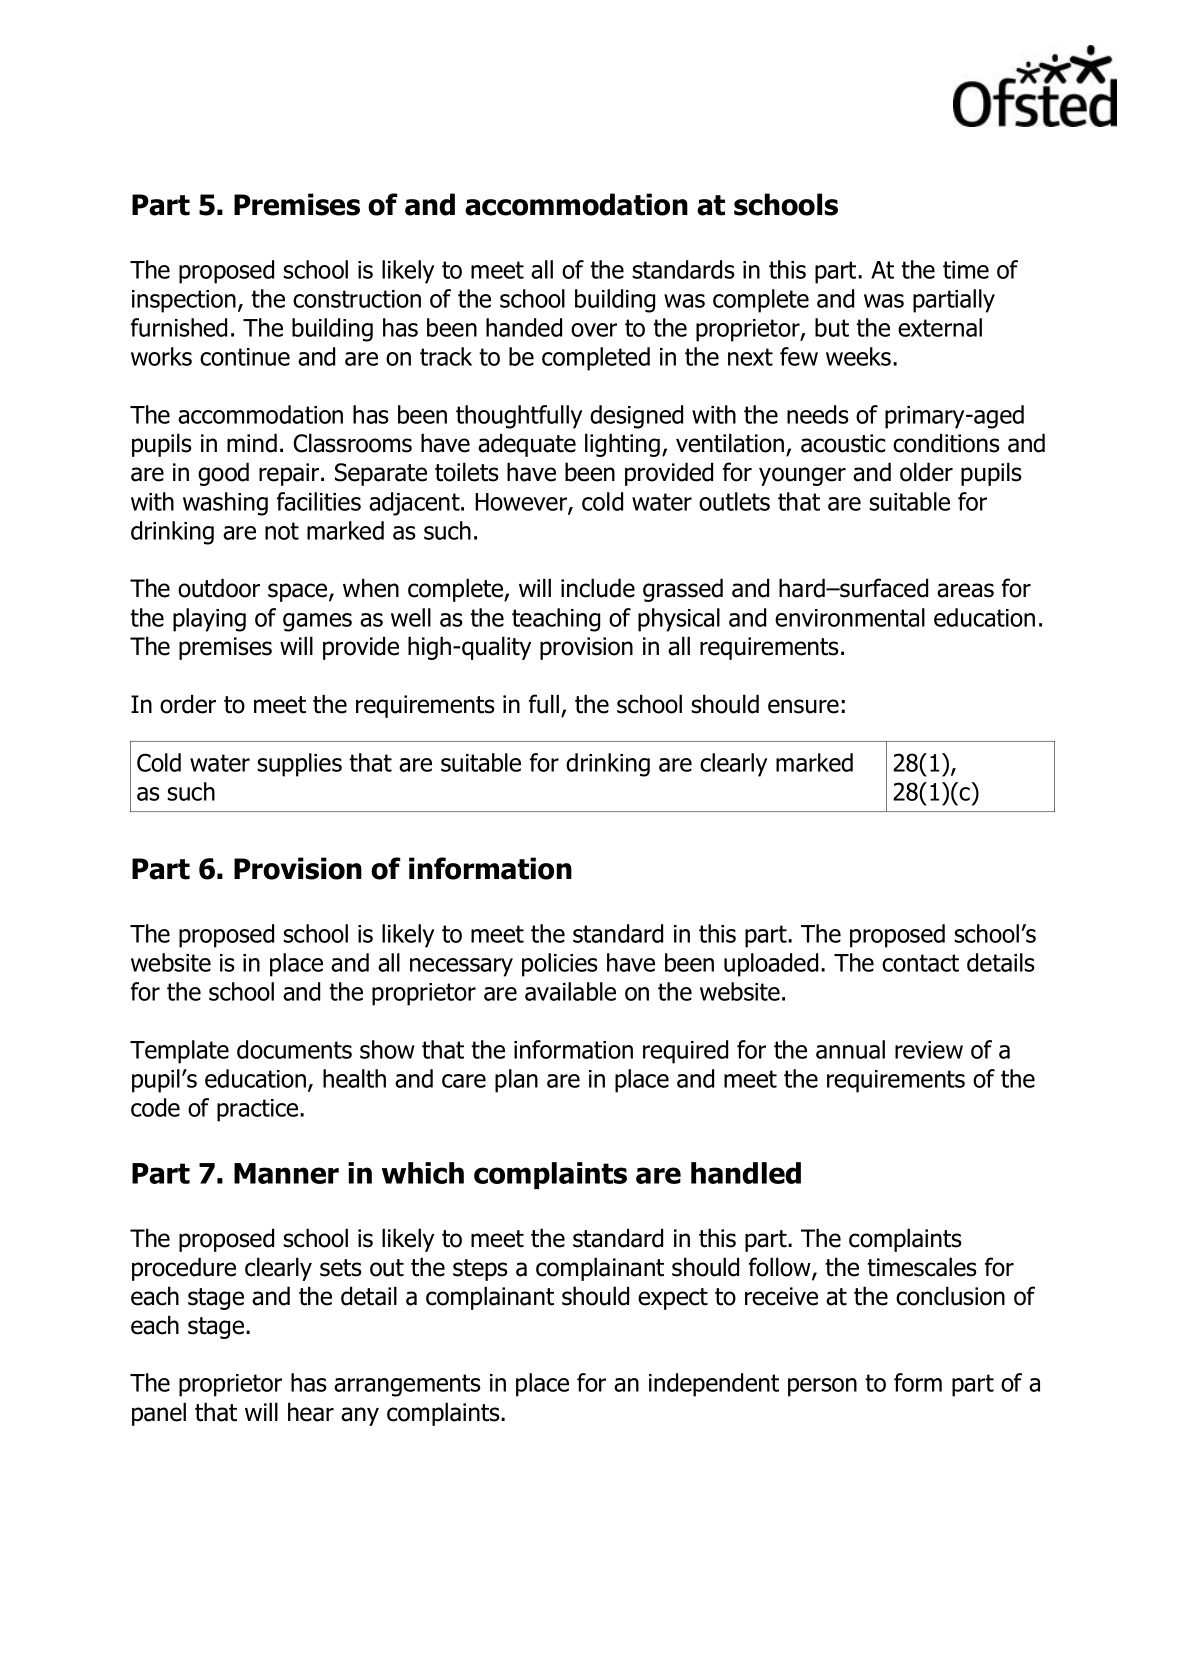full_lined: (129, 740, 1055, 812)
